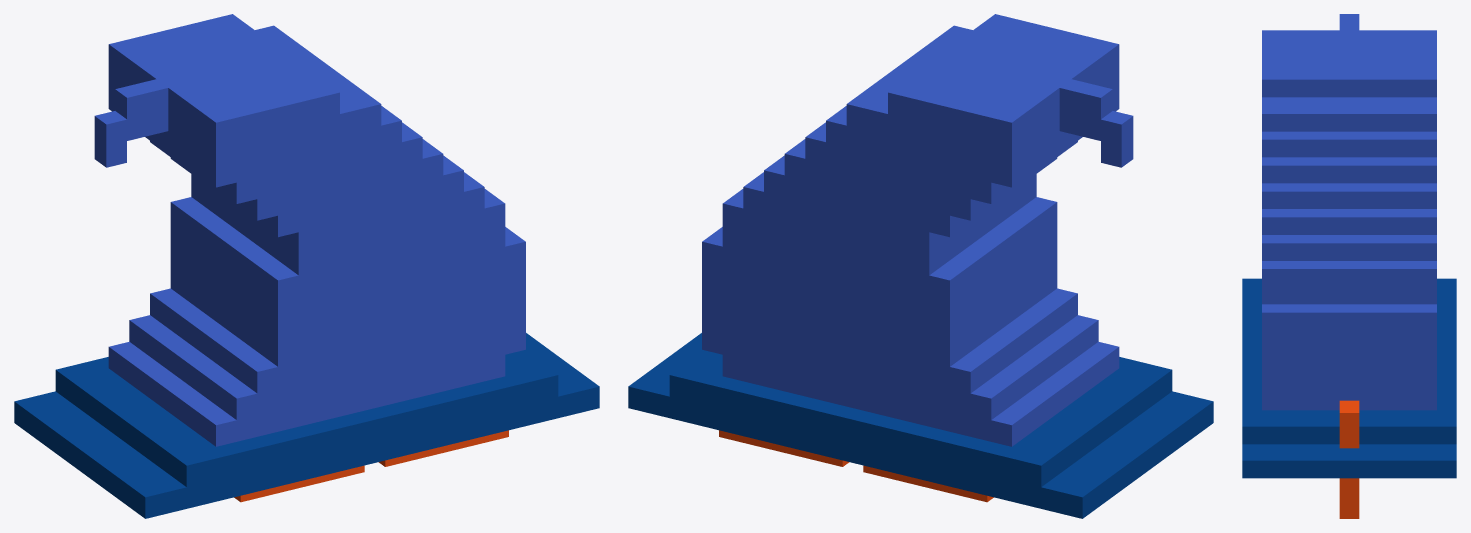
Rendered from wizardhat.glb.
The picture shows the model from 3 angles, left to right: view 1: azimuth 30°, elevation 25°; view 2: azimuth 150°, elevation 25°; view 3: azimuth 270°, elevation 25°; orthographic projection. The views are drawn at different scales.
Parts seen in each view (by area): view 1: base, glasses; view 2: base, glasses; view 3: base, glasses.
Boxes of the visible parts, box(x1,y1,x2,y2) form: base: box(14, 14, 599, 518); glasses: box(234, 430, 508, 502); base: box(628, 14, 1213, 518); glasses: box(719, 430, 993, 502); base: box(1242, 14, 1456, 478); glasses: box(1339, 400, 1359, 518).
Bounding box in the file's own units: 22 × 20 × 11.
6 materials, 6 textured.
